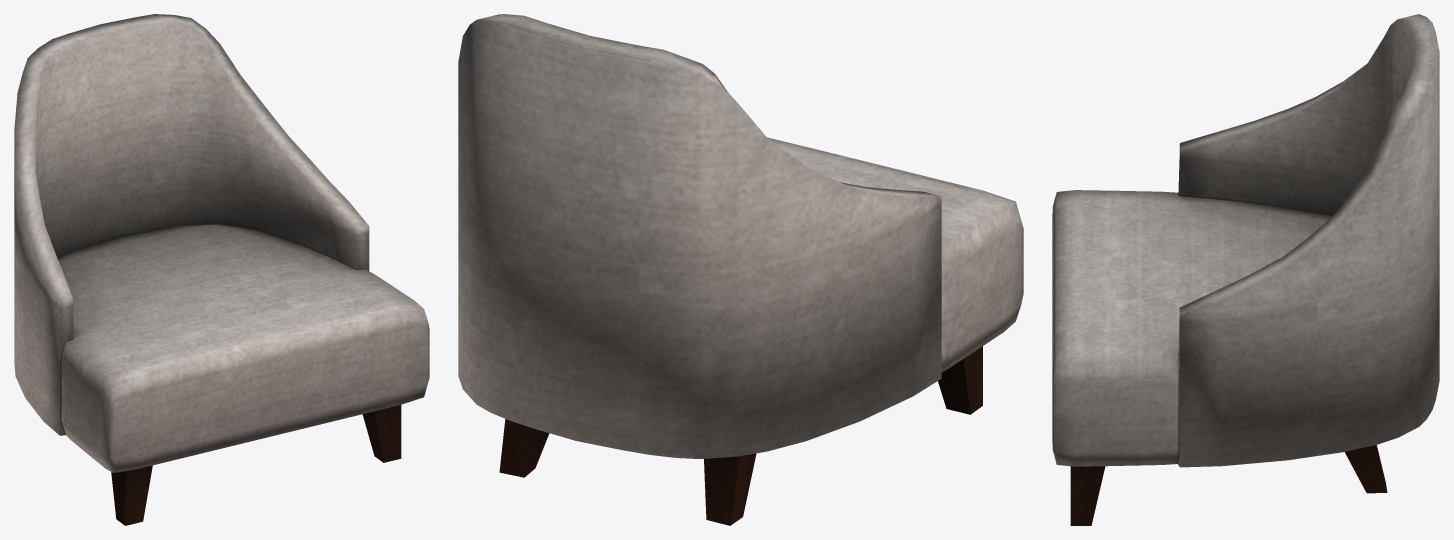
The model's file is corninna_accent.fbx.
3 views of the same model, side by side, from view 1: azimuth 30°, elevation 25°; view 2: azimuth 150°, elevation 25°; view 3: azimuth 270°, elevation 25° (orthographic). The views are drawn at different scales.
Visible parts, largest first — view 1: Corinna_Accent_Chair; view 2: Corinna_Accent_Chair; view 3: Corinna_Accent_Chair.
Boxes of the visible parts, <box> form: Corinna_Accent_Chair: <box>14,14,429,525</box>; Corinna_Accent_Chair: <box>458,14,1023,525</box>; Corinna_Accent_Chair: <box>1052,14,1439,525</box>.
Size of the model in its own units: 1.13 by 1.18 by 1.04.
